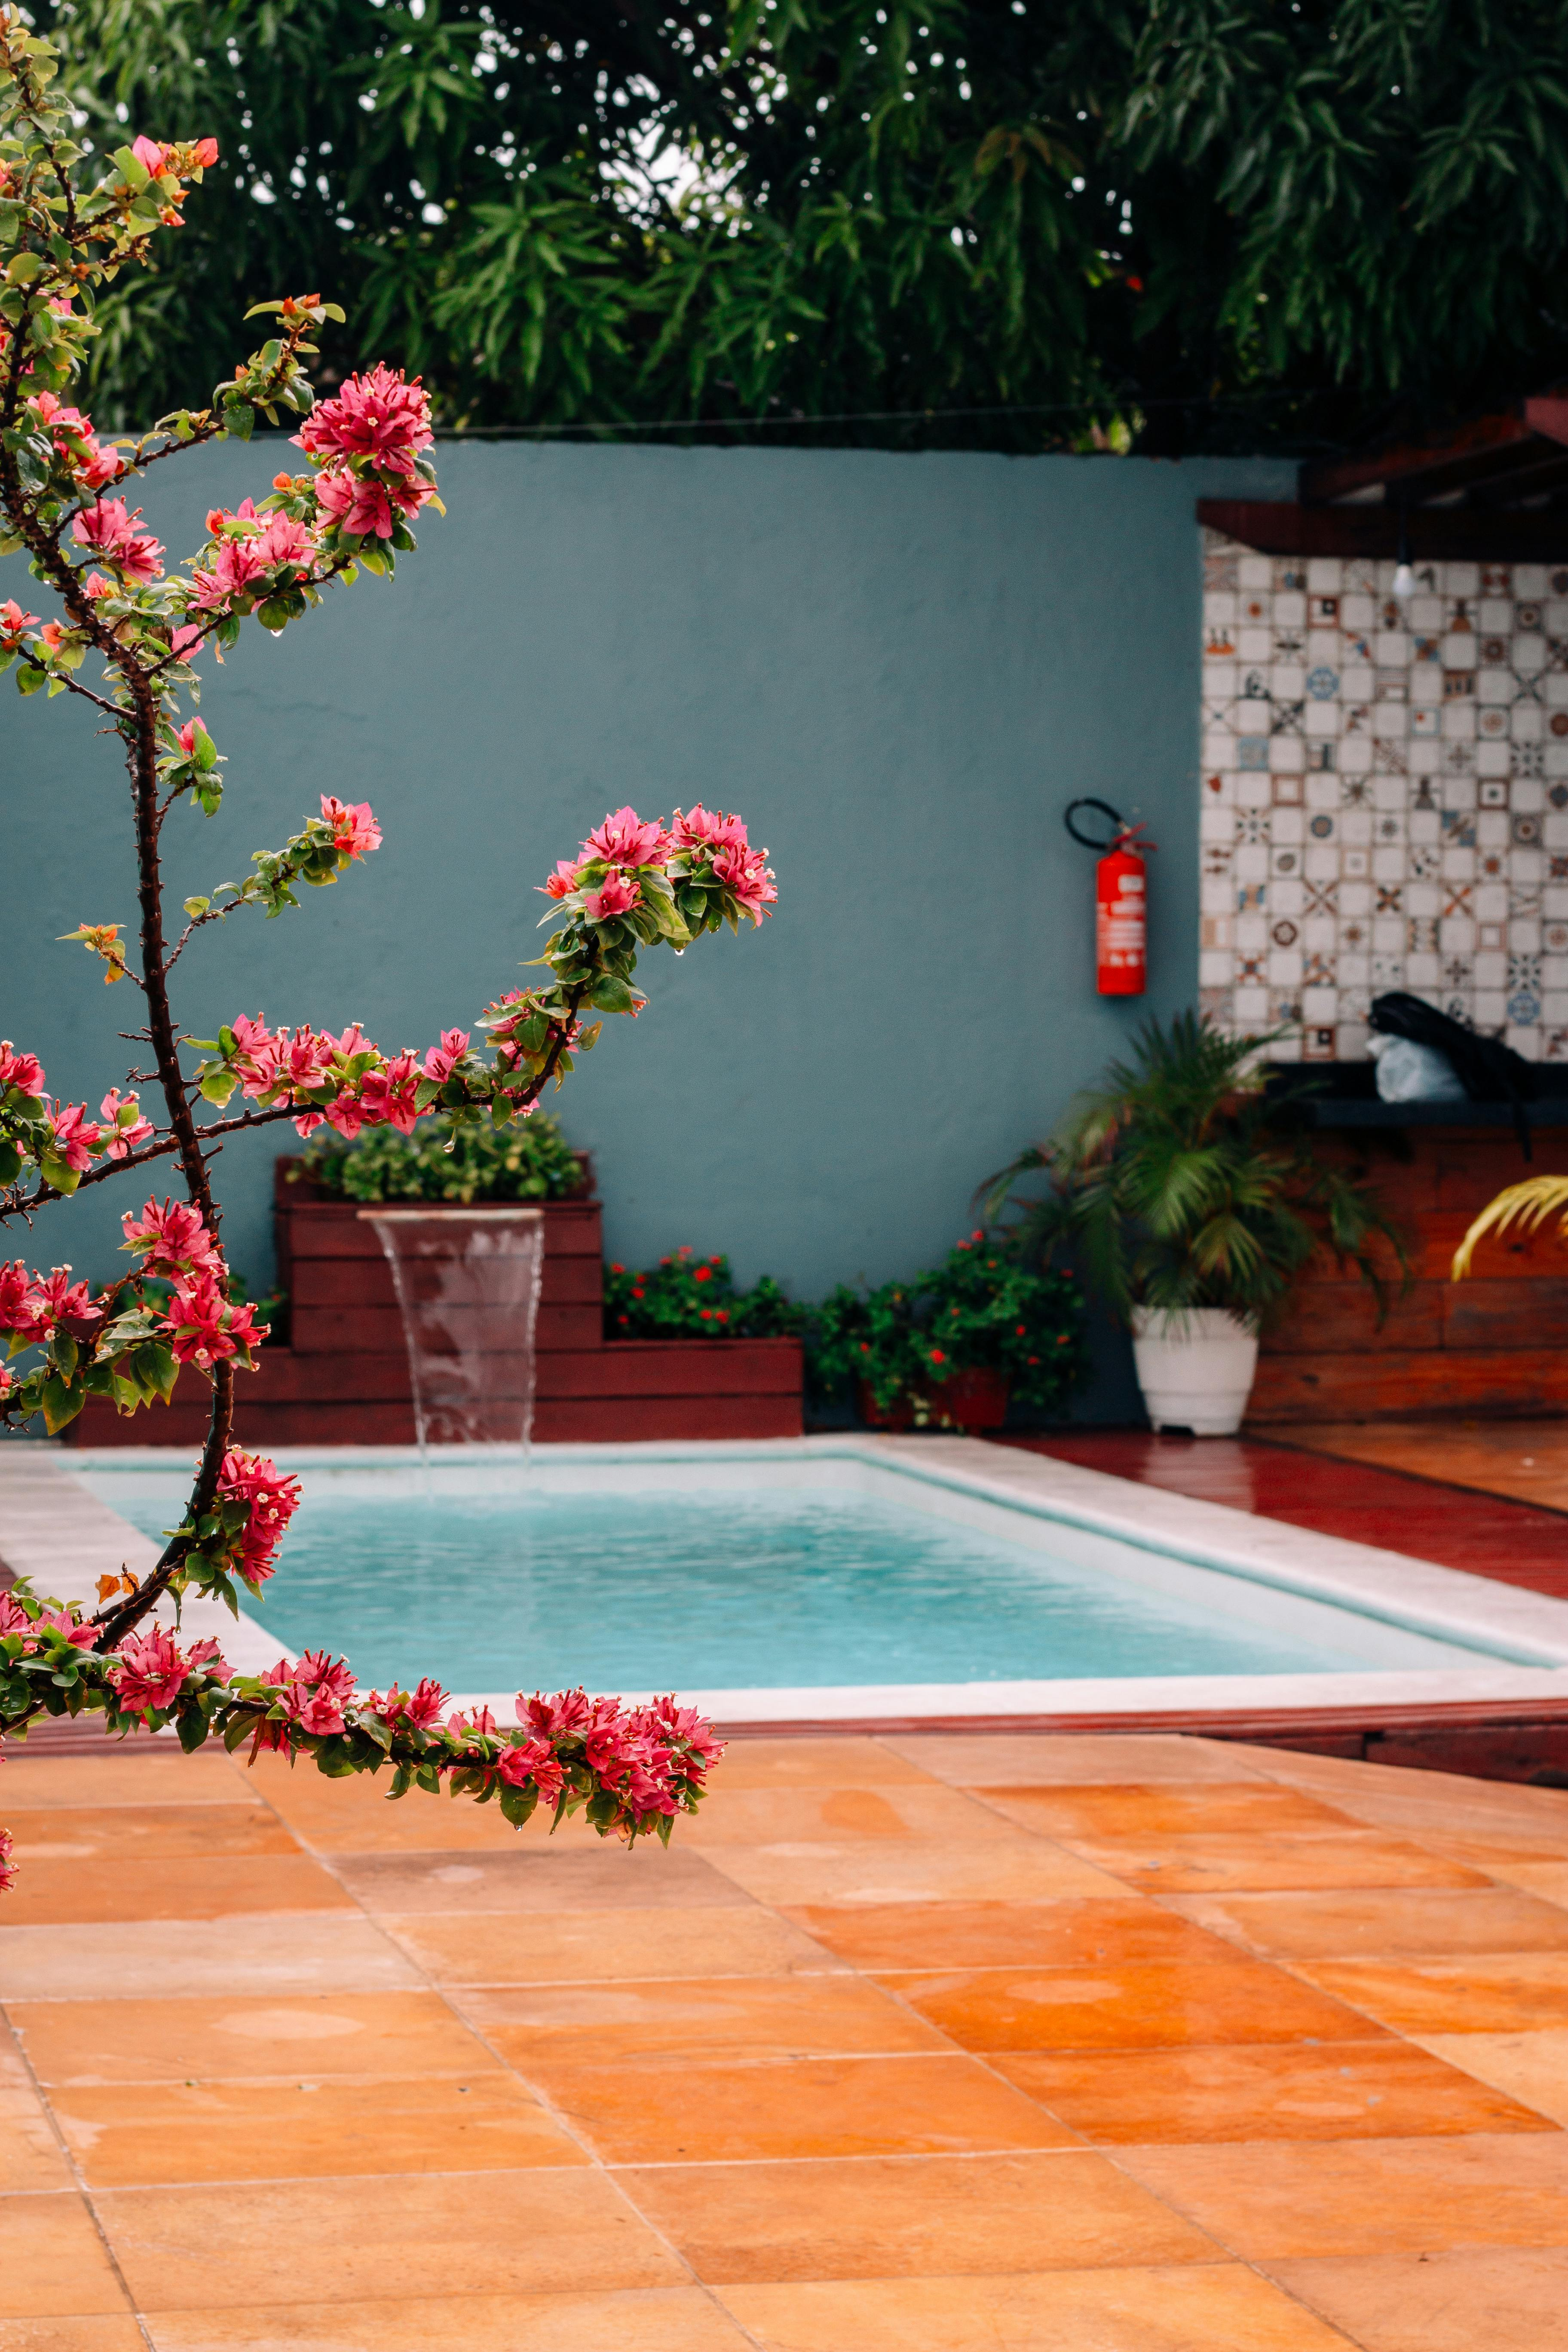extintor: (1059, 779, 1172, 1011)
